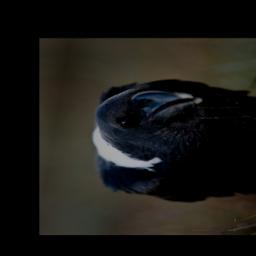Crow: (80, 75, 256, 205)
